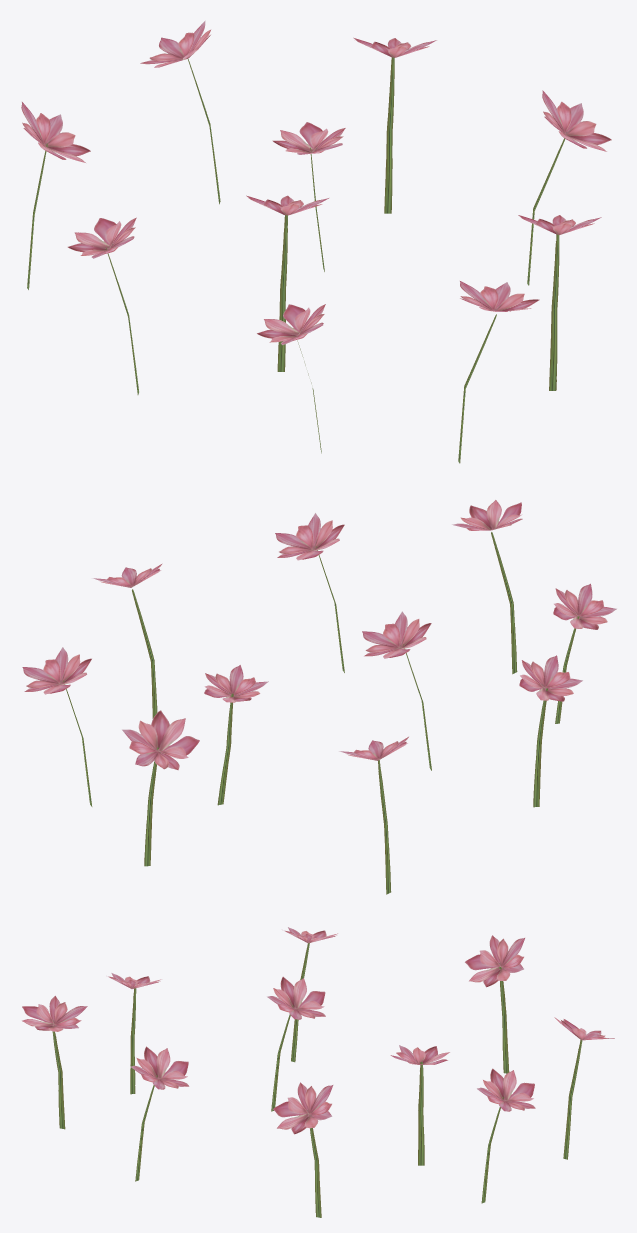
Rendered from SM_Ground_Pink_Flower_D.fbx.
3 renders of one model, top to bottom at view 1: azimuth 30°, elevation 25°; view 2: azimuth 150°, elevation 25°; view 3: azimuth 270°, elevation 25°, orthographic. The views are drawn at different scales.
Parts seen in each view (by area): view 1: SM_Ground_Pink_Flower_D_LOD0; view 2: SM_Ground_Pink_Flower_D_LOD0; view 3: SM_Ground_Pink_Flower_D_LOD0.
Part boxes in pixels (bbox=[...]): SM_Ground_Pink_Flower_D_LOD0: bbox=[21, 20, 611, 463]; SM_Ground_Pink_Flower_D_LOD0: bbox=[22, 500, 616, 894]; SM_Ground_Pink_Flower_D_LOD0: bbox=[22, 927, 614, 1217].
Size of the model in its own units: 78.96 by 96.71 by 25.38.
1 material, 1 textured.
